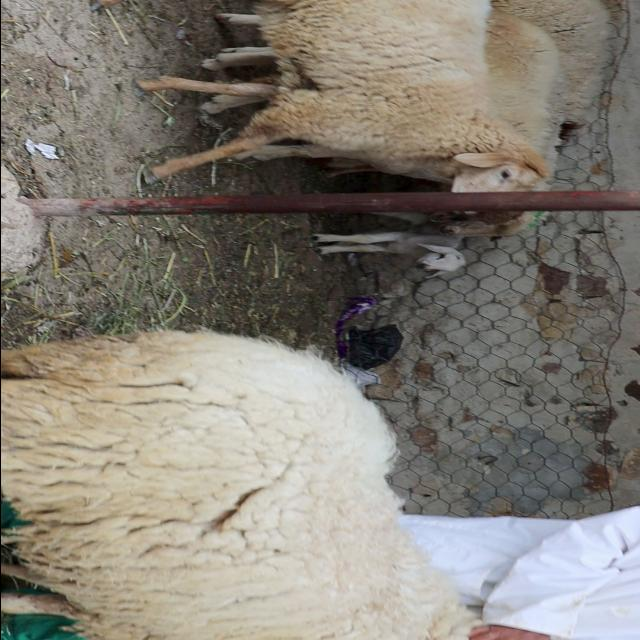Score_3: (1, 330, 476, 640)
